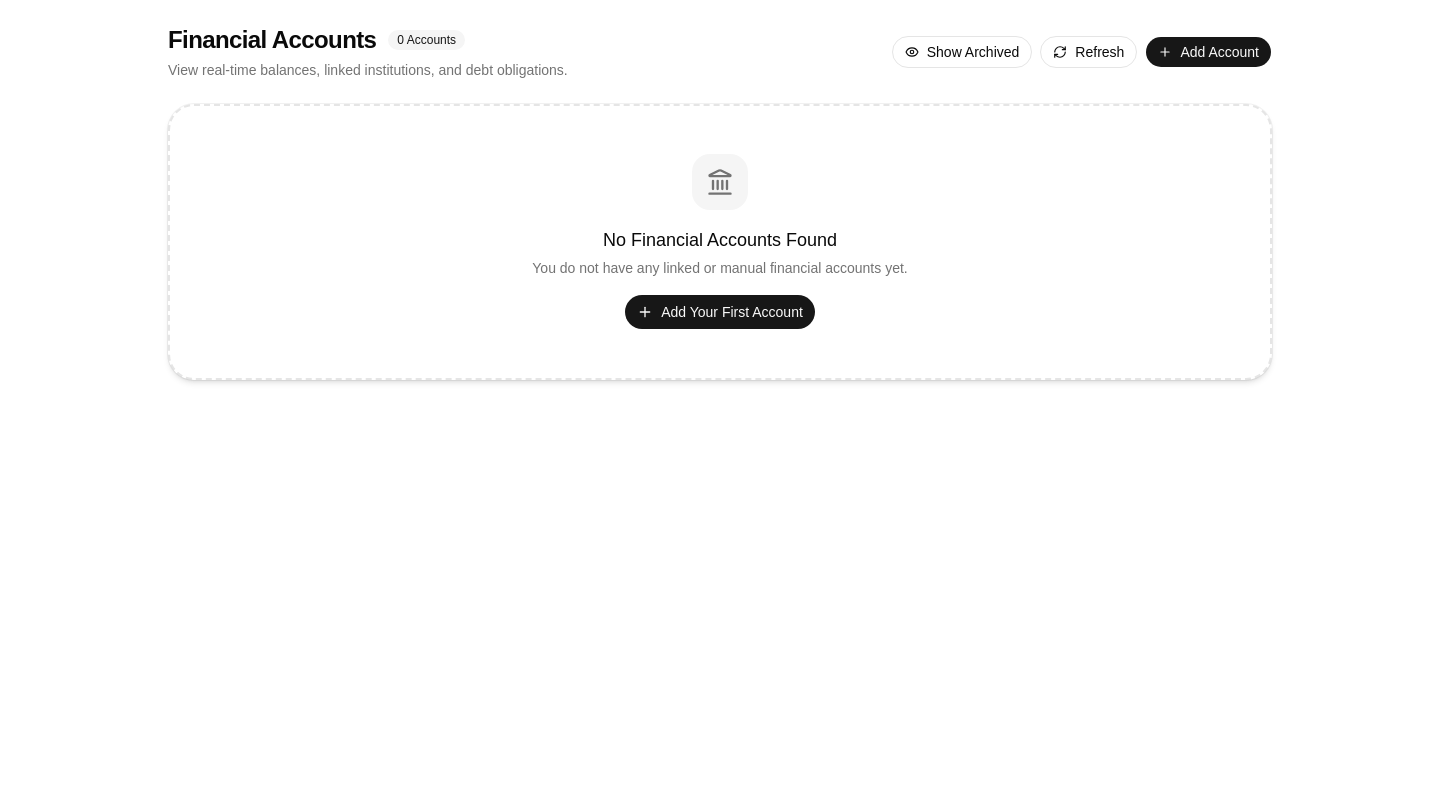
Test: AccountsPage › 13. shows credit limit field only for credit account type
Click the button with test id "add-account-btn". click: [1209, 52]
box: 1145,36 -> 1272,68
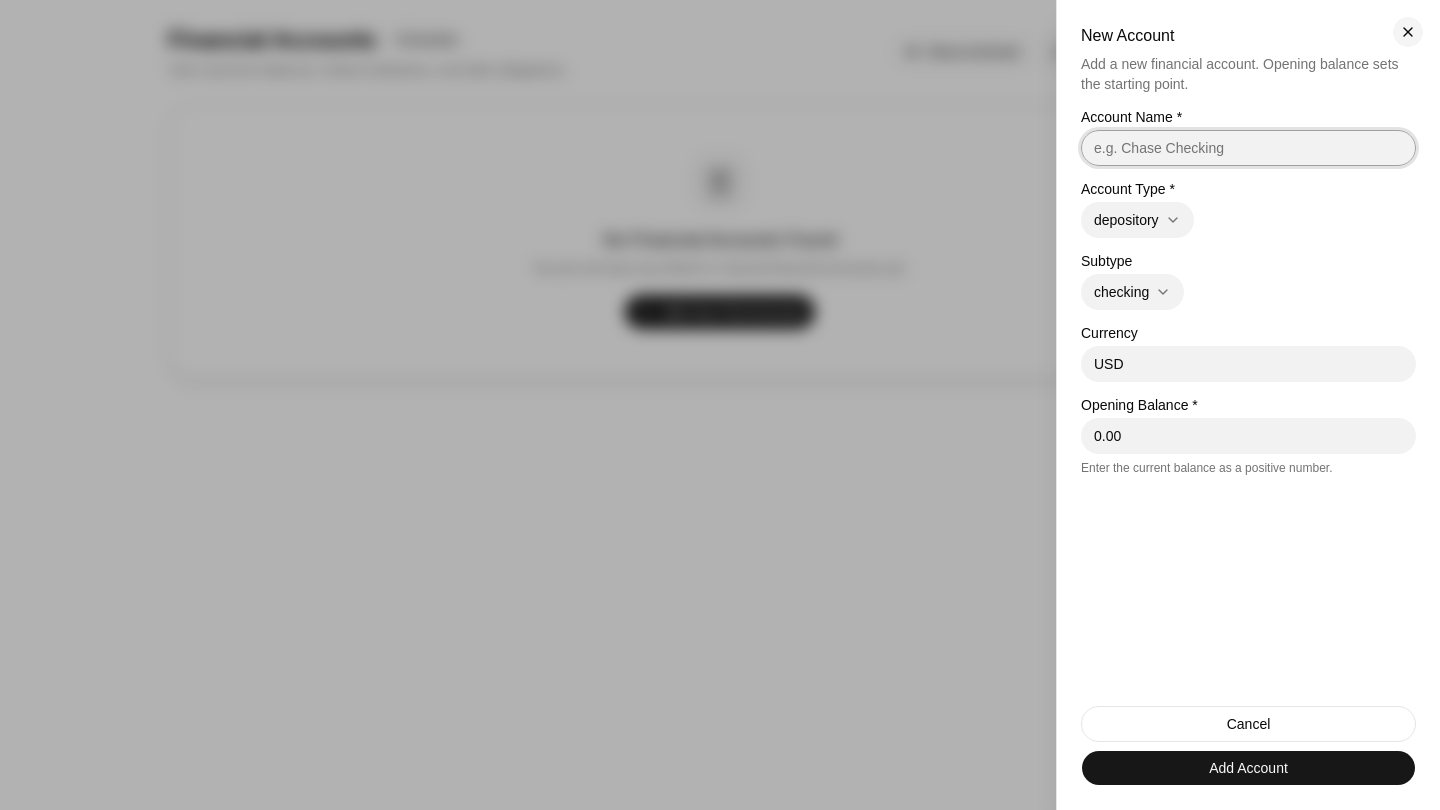
Result: the dialog with test id "account-form-sheet" is shown at 1056,0 -> 1439,809
